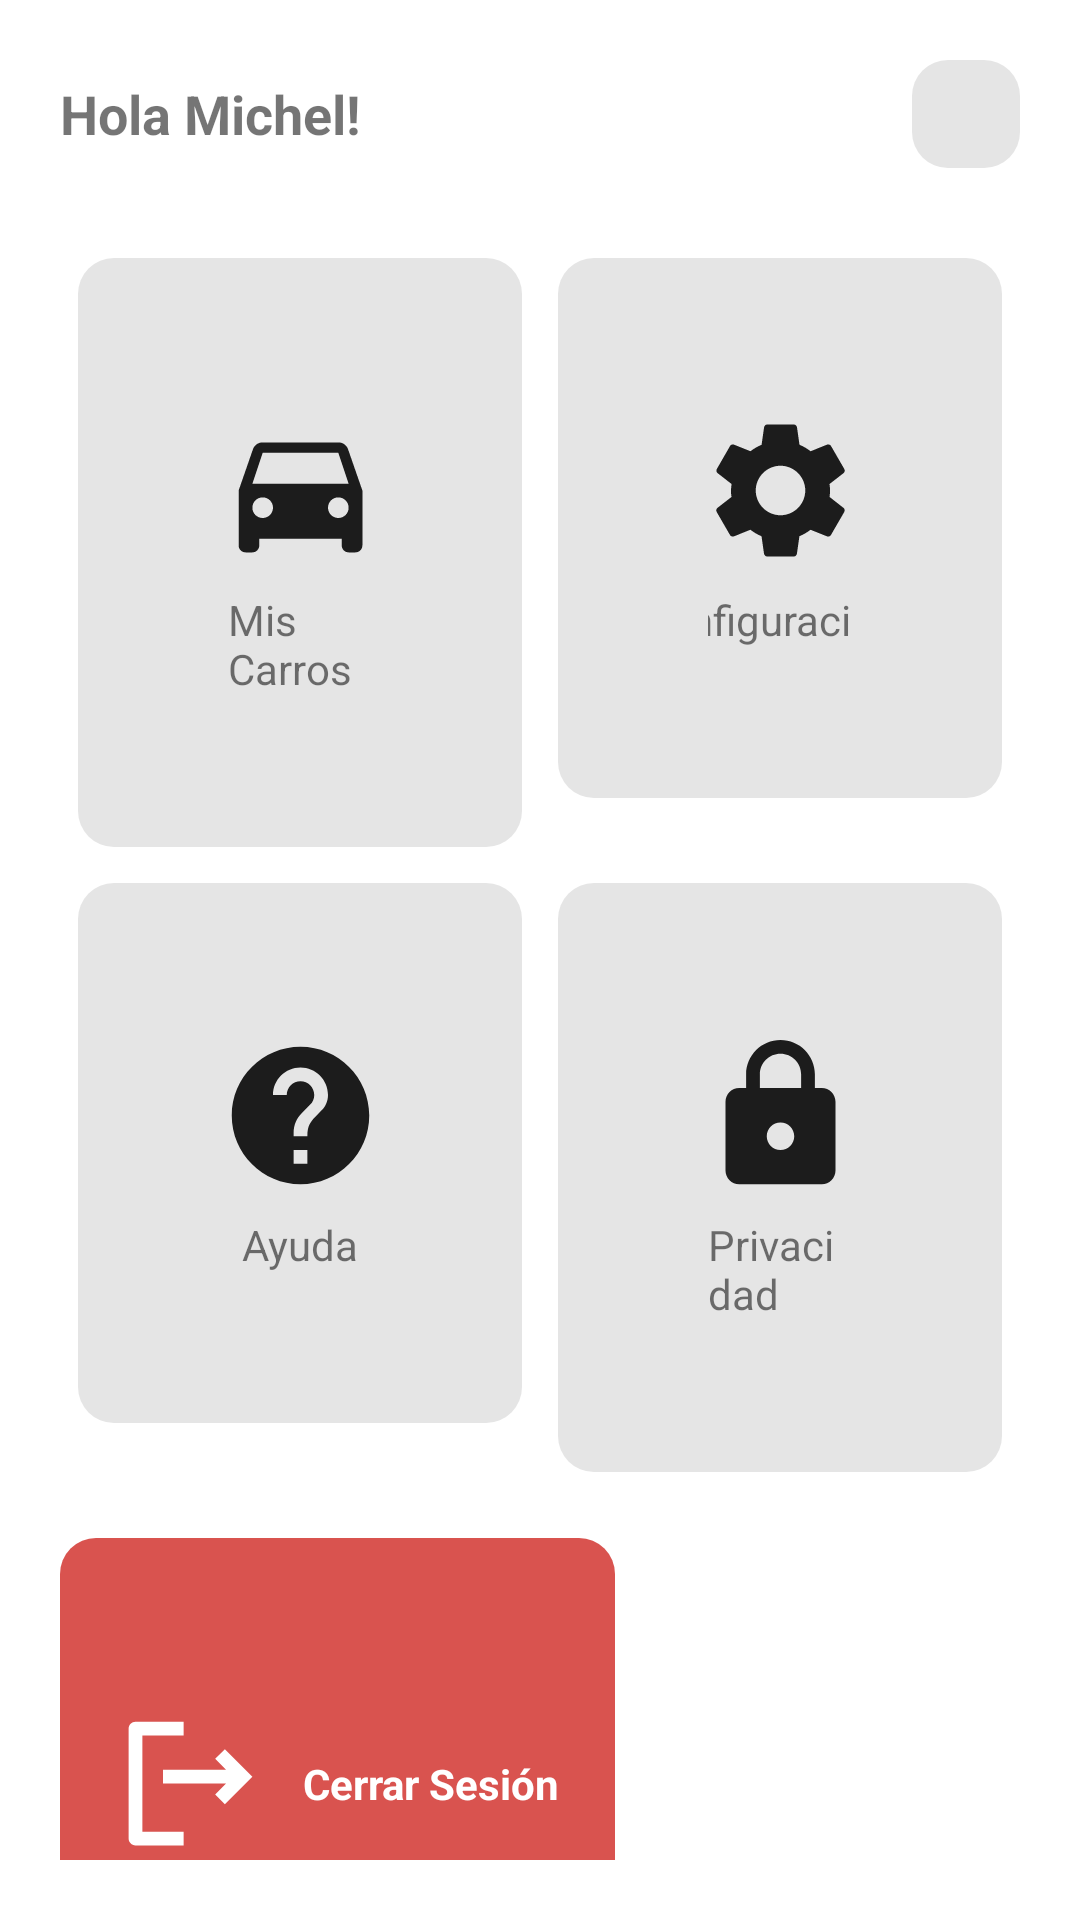

Icons on this 1080px×1920px Android screen, each with its box as detection(x1, y1, x2, y2):
car: detection(238, 442, 363, 553)
help: detection(231, 1046, 370, 1185)
lock: detection(725, 1040, 836, 1185)
settings: detection(716, 424, 845, 557)
